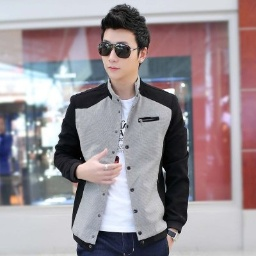face: (98, 3, 151, 79)
